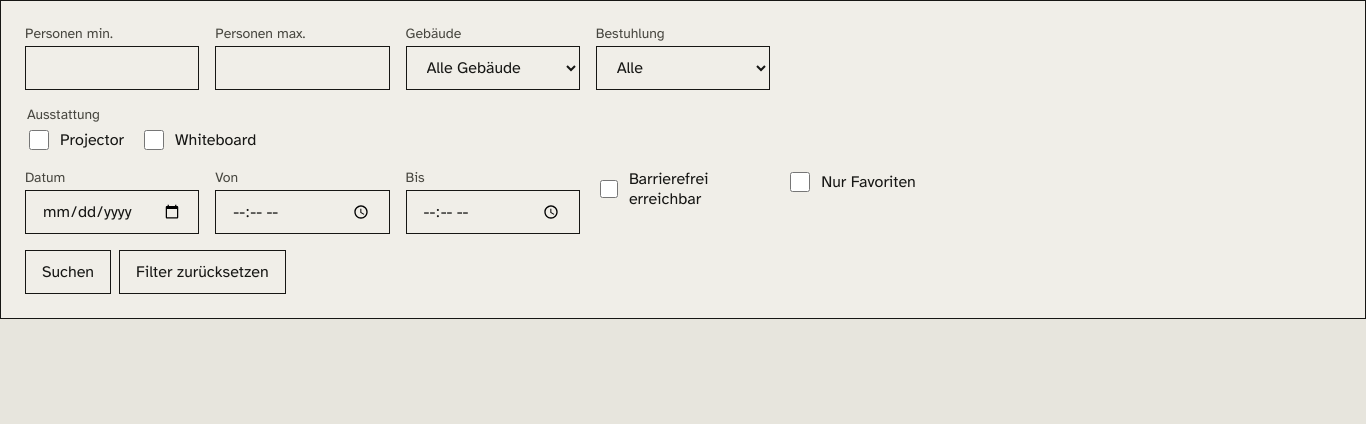
Test case: RoomSearchPanel › shows an inline error and does not search when the input is invalid
Type "30" into the number field labelled "Personen min." at (112, 68), box [25, 46, 199, 90]
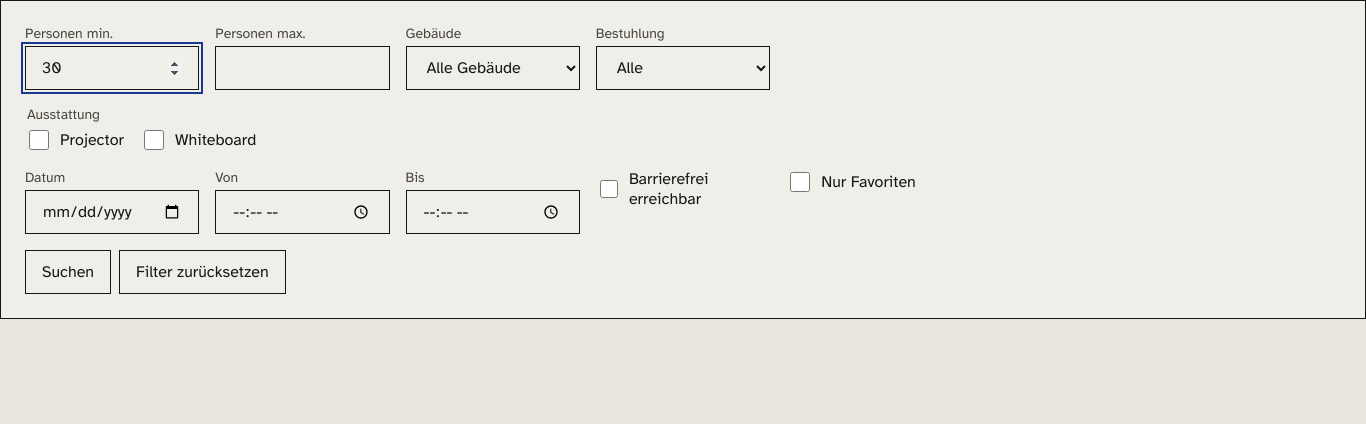
Type "10" into the number field labelled "Personen max." at (302, 68), box [215, 46, 390, 90]
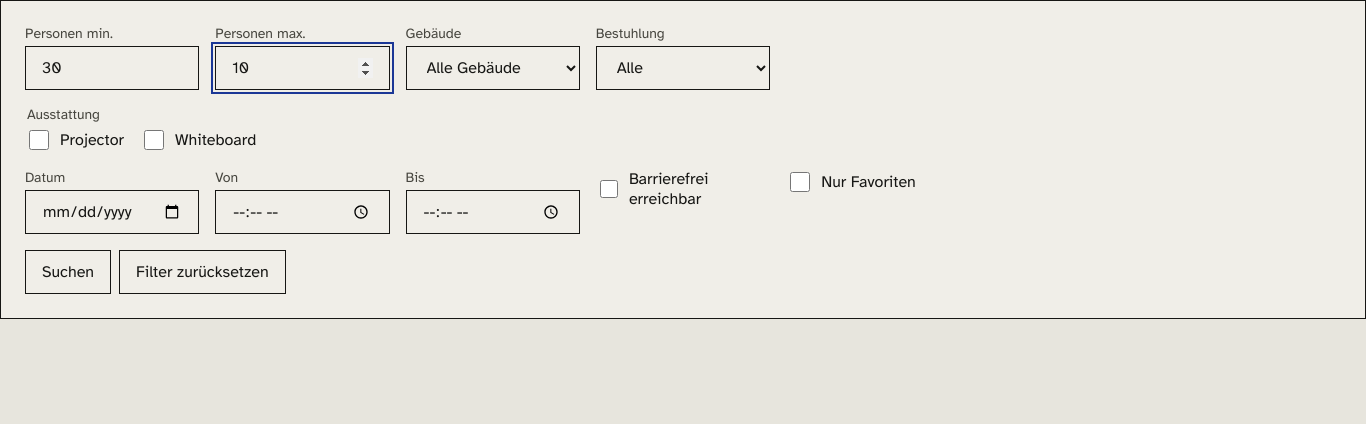
Click the button "Suchen" at (68, 272), box [25, 250, 111, 294]
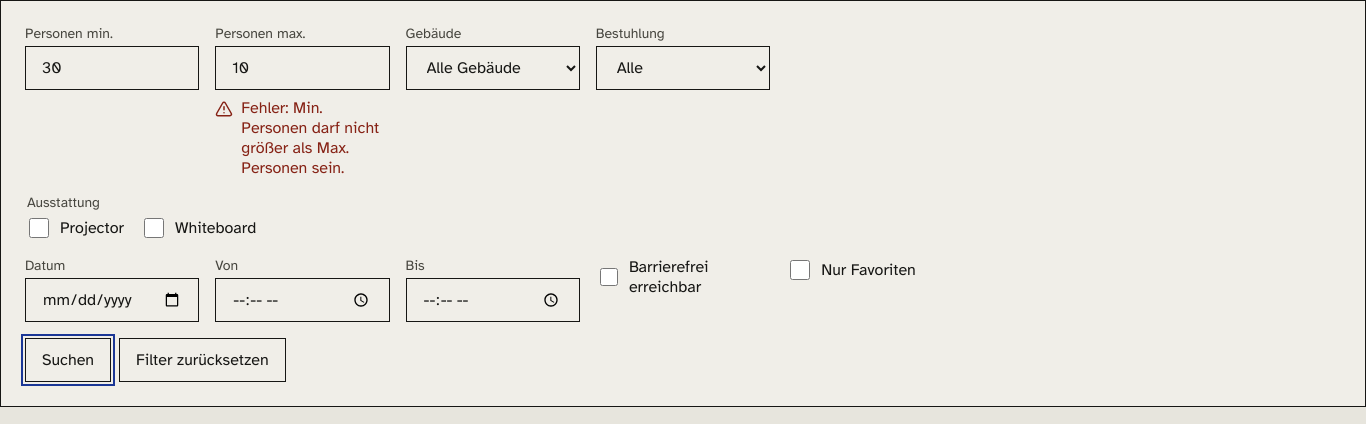
Expected: the text "Min. Personen darf nicht größer als Max. Personen sein." shows "Fehler:", [241, 98, 289, 118]
